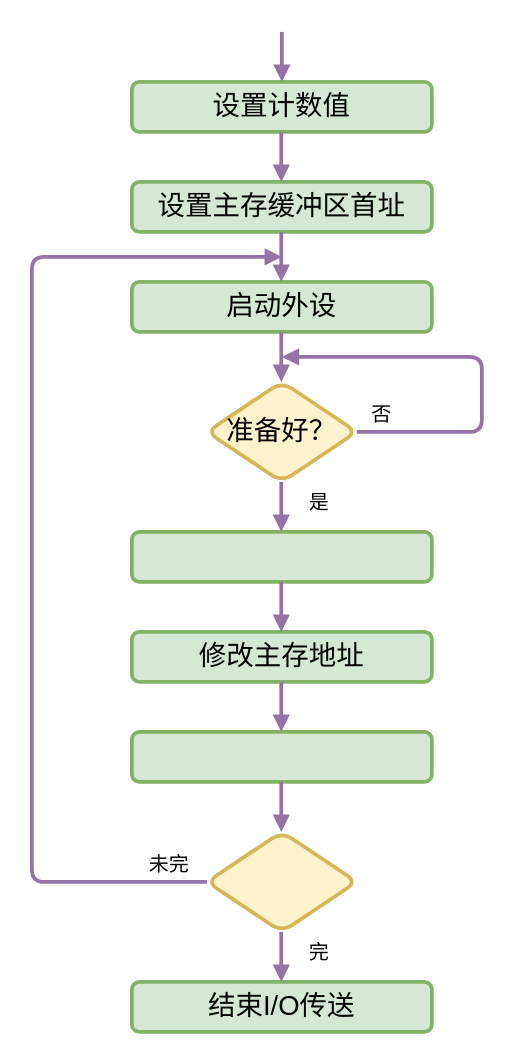
Image size: 515x1055. Some labels were removed from this diagram. Here are the shapes that lost their labels. From the top down, the centre of each, then its label:
(281,556): 传送一个数据
(281,756): 修改计数值
(281,881): 传送完？
